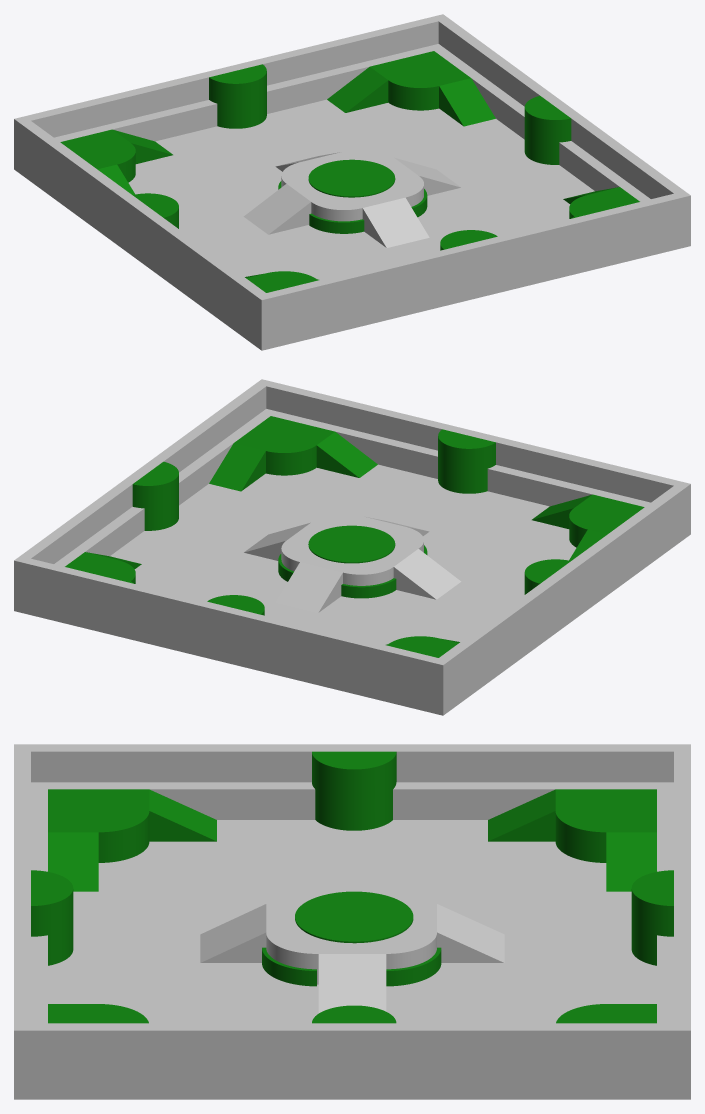
The model's file is Test Game.fbx.
3 views of the same model, one above another, from view 1: azimuth 30°, elevation 25°; view 2: azimuth 150°, elevation 25°; view 3: azimuth 270°, elevation 25° (orthographic). The views are drawn at different scales.
Visible parts, largest first — view 1: Floor, SM_Cube19, SM_Cube18, SM_Cube5, SM_Cube20, SM_Cube17, SM_Cube3, SM_Cube4, SM_Cube2, SM_Cylinder, SM_Ramp12, SM_Ramp9 (+18 smaller); view 2: Floor, SM_Cube18, SM_Cube19, SM_Cube4, SM_Cube20, SM_Cube17, SM_Cube3, SM_Cube5, SM_Cube2, SM_Cylinder, SM_Ramp10, SM_Ramp9 (+18 smaller); view 3: Floor, SM_Cube17, SM_Cube20, SM_Cube2, SM_Cube3, SM_Cylinder, SM_Cube19, SM_Cube18, SM_Ramp11, SM_Cylinder6, SM_Cylinder7, SM_Ramp10 (+33 smaller).
Boxes of the visible parts, x1,y1,x2,y2 form: Floor: (14, 99, 690, 350); SM_Cube19: (266, 193, 680, 319); SM_Cube18: (25, 17, 438, 137); SM_Cube5: (283, 223, 669, 339); SM_Cube20: (14, 116, 272, 322); SM_Cube17: (433, 14, 690, 220); SM_Cube3: (14, 141, 283, 344); SM_Cube4: (54, 46, 433, 141); SM_Cube2: (428, 44, 690, 245); SM_Cylinder: (308, 159, 395, 197); SM_Ramp12: (362, 197, 429, 247); SM_Ramp9: (243, 184, 311, 234); Floor: (14, 464, 690, 715); SM_Cube18: (24, 558, 438, 684); SM_Cube19: (266, 382, 679, 502); SM_Cube4: (35, 588, 421, 704); SM_Cube20: (432, 481, 690, 687); SM_Cube17: (14, 379, 271, 585); SM_Cube3: (421, 506, 690, 709); SM_Cube5: (271, 411, 650, 506); SM_Cube2: (14, 409, 276, 610); SM_Cylinder: (308, 525, 395, 563); SM_Ramp10: (275, 562, 342, 612); SM_Ramp9: (393, 549, 461, 599); Floor: (14, 820, 690, 1099); SM_Cube17: (14, 1023, 690, 1061); SM_Cube20: (14, 744, 690, 782); SM_Cube2: (14, 1061, 690, 1091); SM_Cube3: (31, 782, 673, 819); SM_Cylinder: (295, 891, 413, 943); SM_Cube19: (14, 751, 30, 1023); SM_Cube18: (674, 751, 690, 1023); SM_Ramp11: (318, 954, 386, 1012); SM_Cylinder6: (312, 751, 354, 830); SM_Cylinder7: (354, 751, 396, 830); SM_Ramp10: (437, 904, 504, 962).
Size of what is drawn, in the model's own units: 4000 by 4000 by 500.
